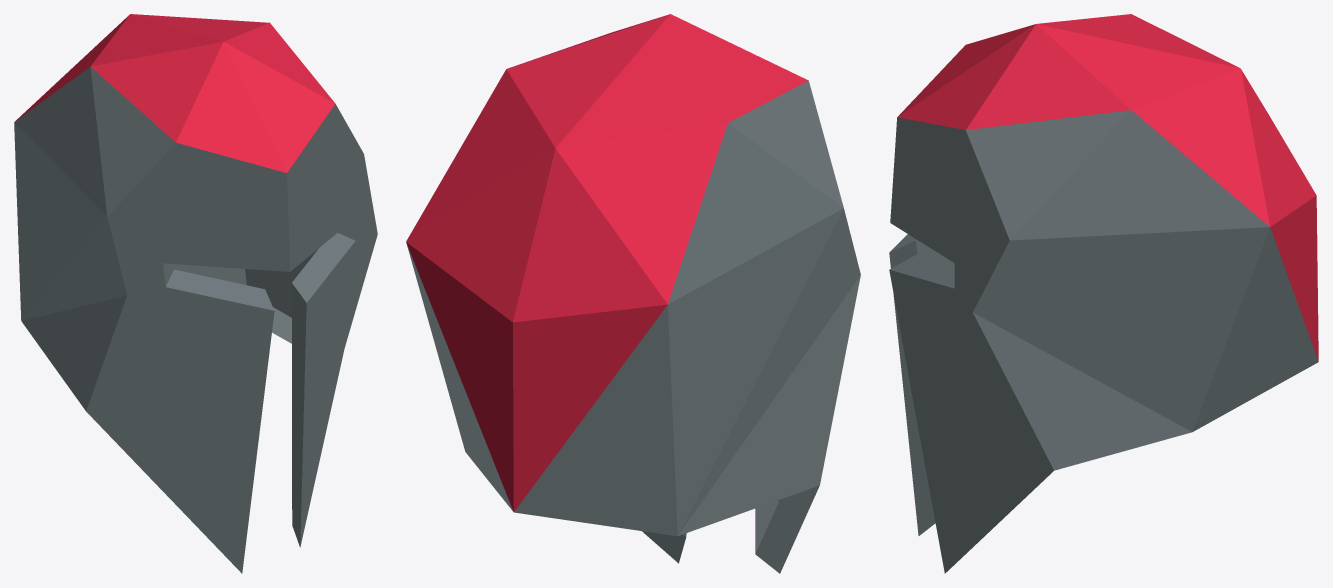
Rendered from helmet_2_red_paint.glb.
The picture shows the model from 3 angles, left to right: view 1: azimuth 30°, elevation 25°; view 2: azimuth 150°, elevation 25°; view 3: azimuth 270°, elevation 25°; orthographic projection. The views are drawn at different scales.
Visible parts, largest first — view 1: Cube.001; view 2: Cube.001; view 3: Cube.001.
Part boxes in pixels (x1,y1,x2,y2): Cube.001: (14, 14, 377, 573); Cube.001: (406, 14, 860, 573); Cube.001: (889, 14, 1318, 573).
Bounding box in the file's own units: 0.2176 × 0.3898 × 0.2856.
